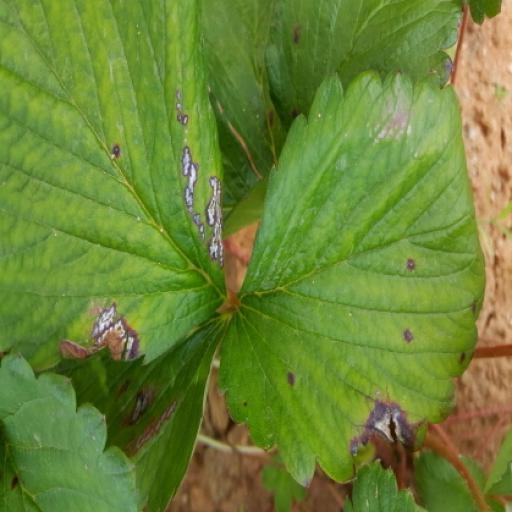Leaf Spot: (26, 19, 295, 442), (282, 139, 511, 511), (49, 271, 309, 511), (277, 0, 511, 200)
